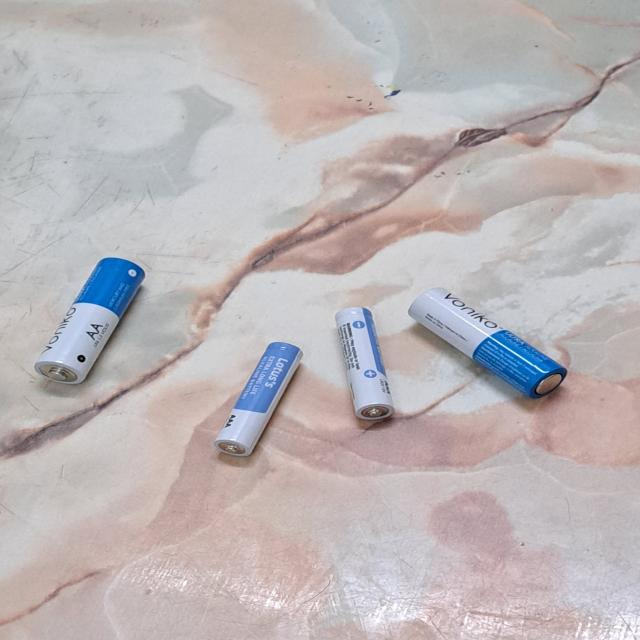battery: (408, 286, 570, 402), (36, 255, 146, 387), (213, 338, 305, 460), (331, 305, 397, 423)
